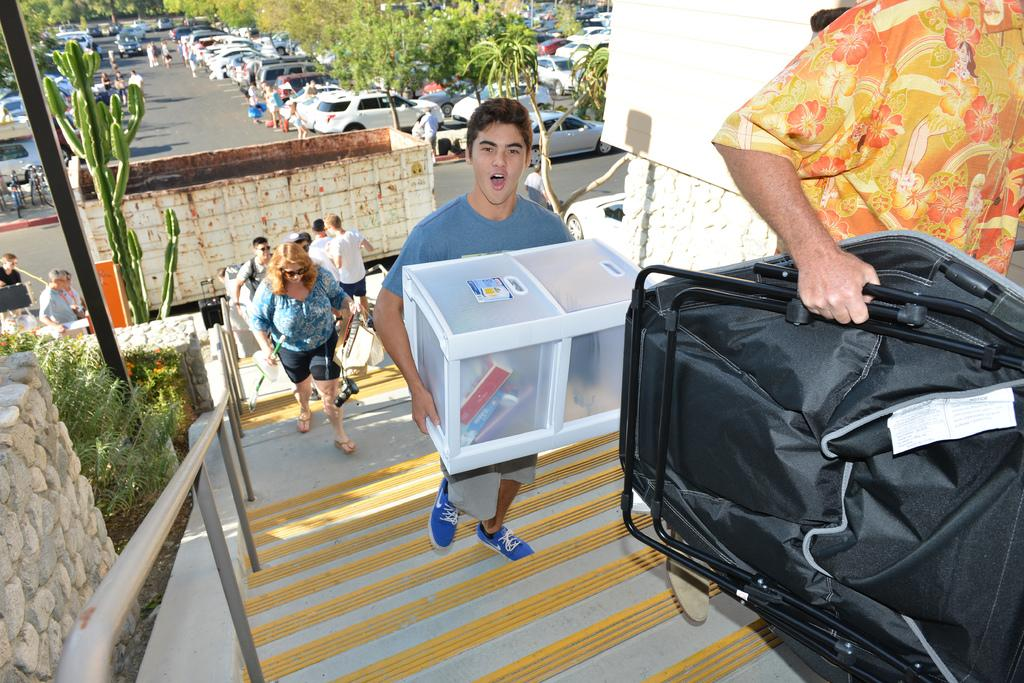Luggage-and-bags: (624, 229, 1023, 682)
